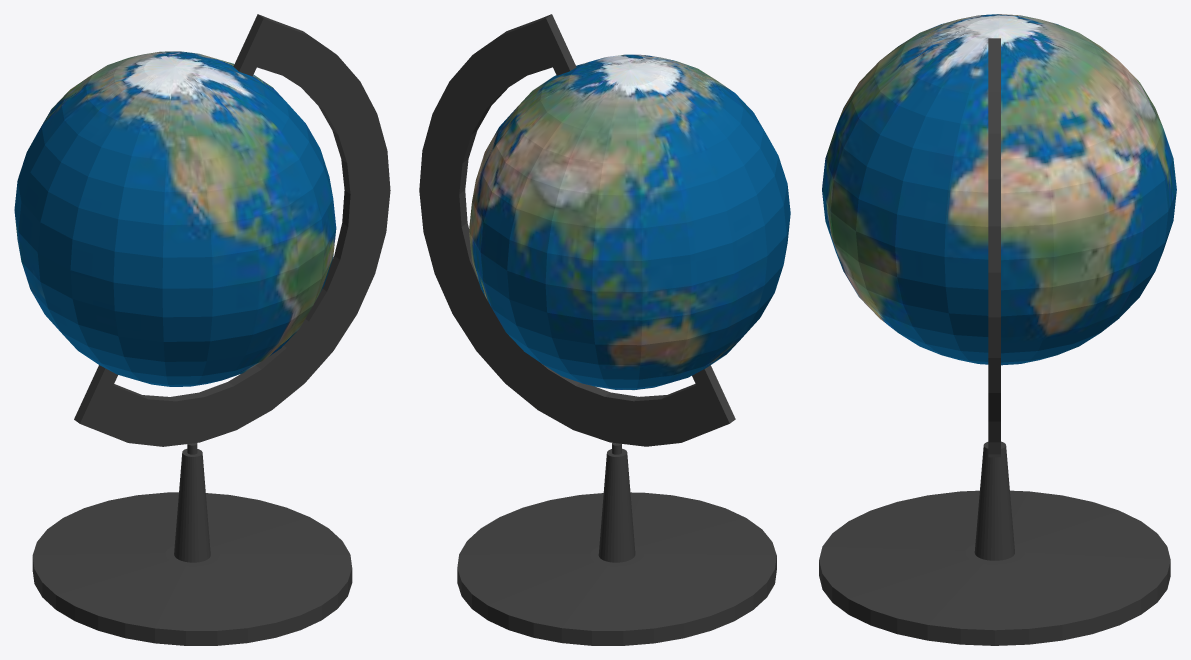
The model's file is Globe.fbx.
3 renders of one model, left to right at view 1: azimuth 30°, elevation 25°; view 2: azimuth 150°, elevation 25°; view 3: azimuth 270°, elevation 25°, orthographic. The views are drawn at different scales.
Visible parts, largest first — view 1: Globe; view 2: Globe; view 3: Globe.
Part boxes in pixels (<box>): Globe: <box>14,14,390,645</box>; Globe: <box>419,14,790,645</box>; Globe: <box>819,14,1176,645</box>.
Bounding box in the file's own units: 163 × 243 × 138.
Materials: 2 (1 with a texture image).
